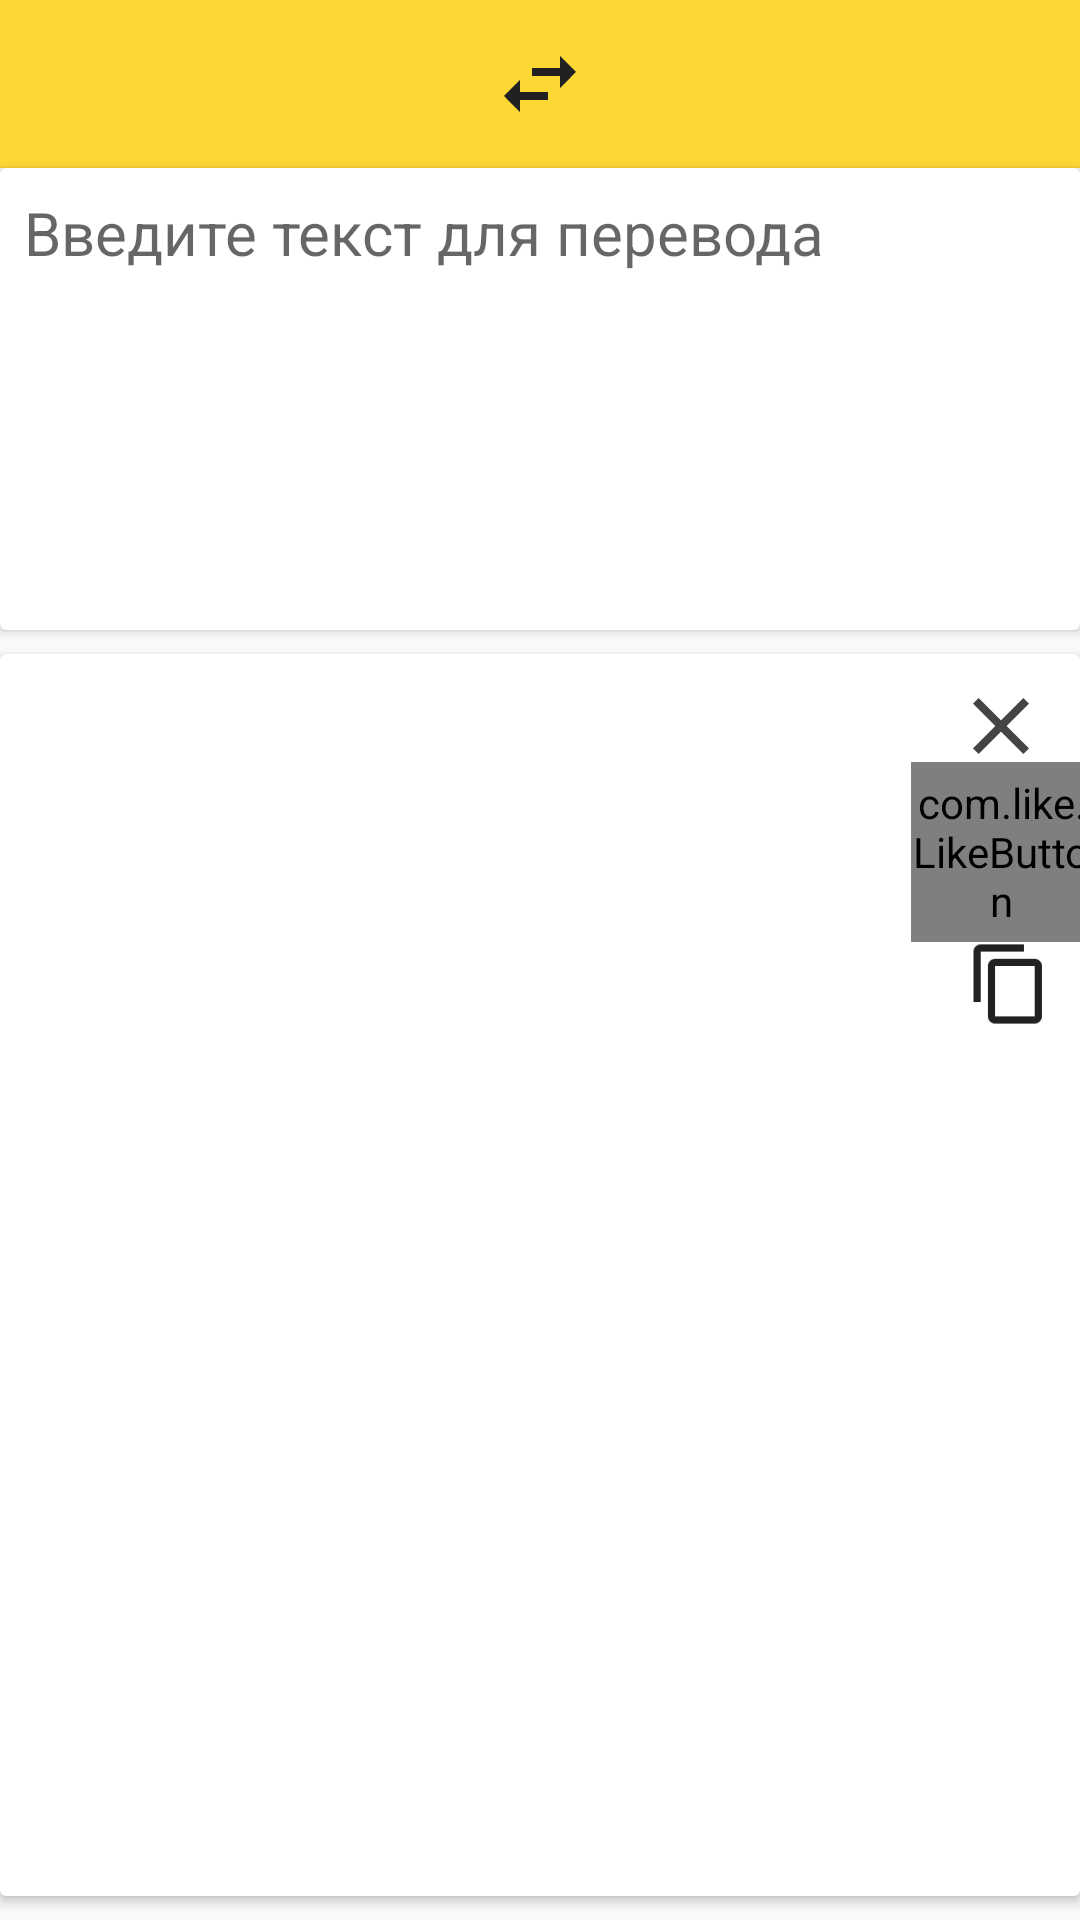

Named icons in this screenshot (1080 × 1920) and their centers, point (x, y):
close: point (1000, 726)
swap horizontal: point (540, 84)
